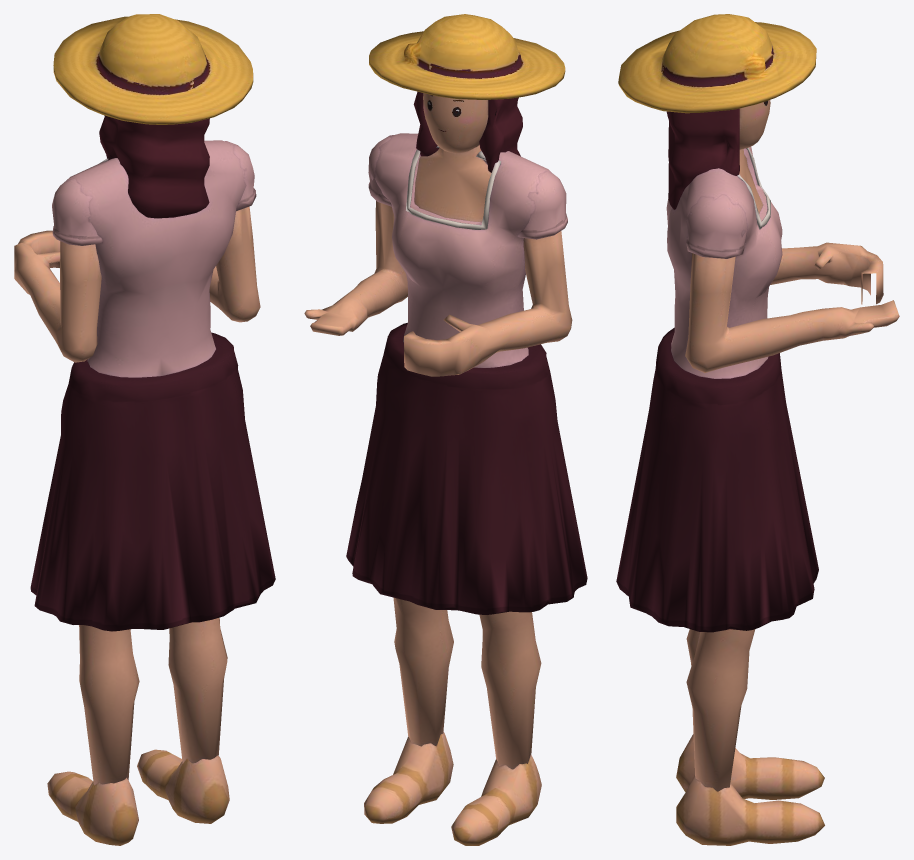
File: npc_hat.glb
3 views of the same model, side by side, from view 1: azimuth 30°, elevation 25°; view 2: azimuth 150°, elevation 25°; view 3: azimuth 270°, elevation 25° (orthographic). The views are drawn at different scales.
Parts seen in each view (by area): view 1: Torso_Hips, Torso_Top, Head_Acc, Head_Hair, ArmL_Skin, LegL_Skin, LegR_Skin, LegR_Shoe, LegL_Shoe, ArmR_Skin, ArmL_Sleeve, ArmR_Sleeve; view 2: Torso_Hips, Torso_Top, Head_Acc, ArmL_Skin, LegL_Skin, LegR_Skin, ArmR_Skin, LegR_Shoe, LegL_Shoe, Torso_Skin, Head_Skin, Head_Hair (+3 smaller); view 3: Torso_Hips, Head_Acc, Torso_Top, ArmR_Skin, LegR_Skin, LegR_Shoe, Head_Hair, LegL_Shoe, ArmL_Skin, ArmR_Sleeve, Head_Skin.
Boxes of the visible parts, box(x1,y1,x2,y2) form: Torso_Hips: box(30, 332, 275, 631); Torso_Top: box(64, 140, 246, 377); Head_Acc: box(53, 14, 253, 124); Head_Hair: box(99, 115, 209, 218); ArmL_Skin: box(14, 230, 101, 362); LegL_Skin: box(79, 625, 139, 785); LegR_Skin: box(168, 617, 227, 763); LegR_Shoe: box(137, 749, 229, 823); LegL_Shoe: box(47, 771, 138, 845); ArmR_Skin: box(209, 206, 260, 322); ArmL_Sleeve: box(52, 179, 102, 245); ArmR_Sleeve: box(224, 141, 256, 211); Torso_Hips: box(346, 322, 587, 614); Torso_Top: box(371, 133, 551, 367); Head_Acc: box(369, 14, 565, 99); ArmL_Skin: box(404, 231, 572, 376); LegL_Skin: box(479, 611, 541, 769); LegR_Skin: box(393, 597, 453, 746); ArmR_Skin: box(304, 201, 407, 335); LegR_Shoe: box(364, 731, 453, 823); LegL_Shoe: box(451, 755, 541, 845); Torso_Skin: box(414, 145, 491, 221); Head_Skin: box(423, 93, 488, 153); Head_Hair: box(413, 91, 522, 172); Torso_Hips: box(616, 327, 818, 632); Head_Acc: box(618, 14, 816, 113); Torso_Top: box(666, 146, 782, 378); ArmR_Skin: box(685, 253, 899, 372); LegR_Skin: box(686, 629, 755, 791); LegR_Shoe: box(676, 775, 824, 845); Head_Hair: box(666, 108, 739, 209); LegL_Shoe: box(676, 734, 824, 799); ArmL_Skin: box(770, 242, 883, 304); ArmR_Sleeve: box(686, 194, 747, 258); Head_Skin: box(739, 100, 770, 149).
Bounding box in the file's own units: 0.4893 × 1.69 × 0.5424.
Materials: 5 (5 with a texture image).
